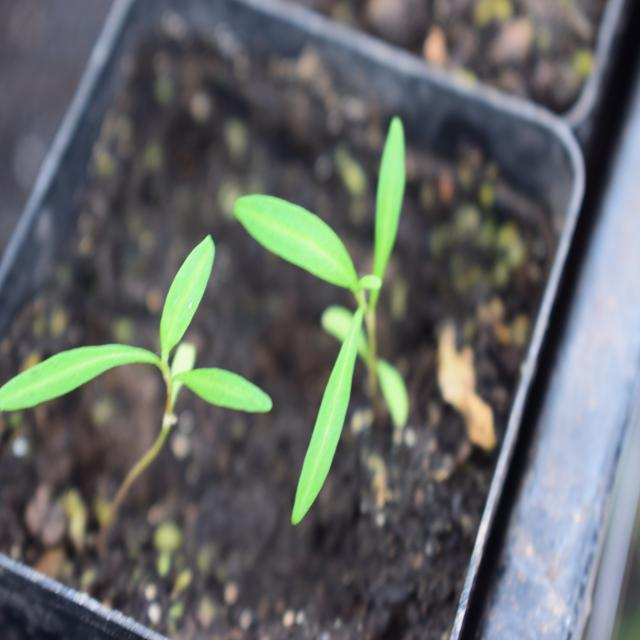white_smart_weed: (234, 93, 476, 528), (0, 245, 280, 466)
